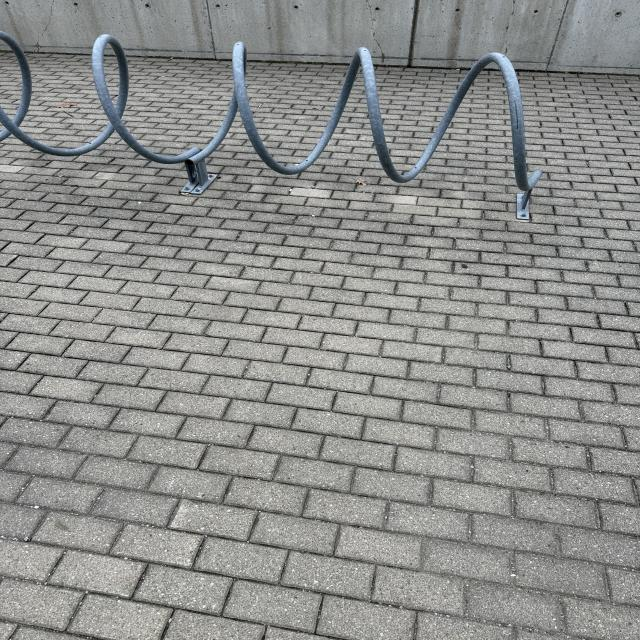Bicycle Rack: (0, 24, 542, 215)
